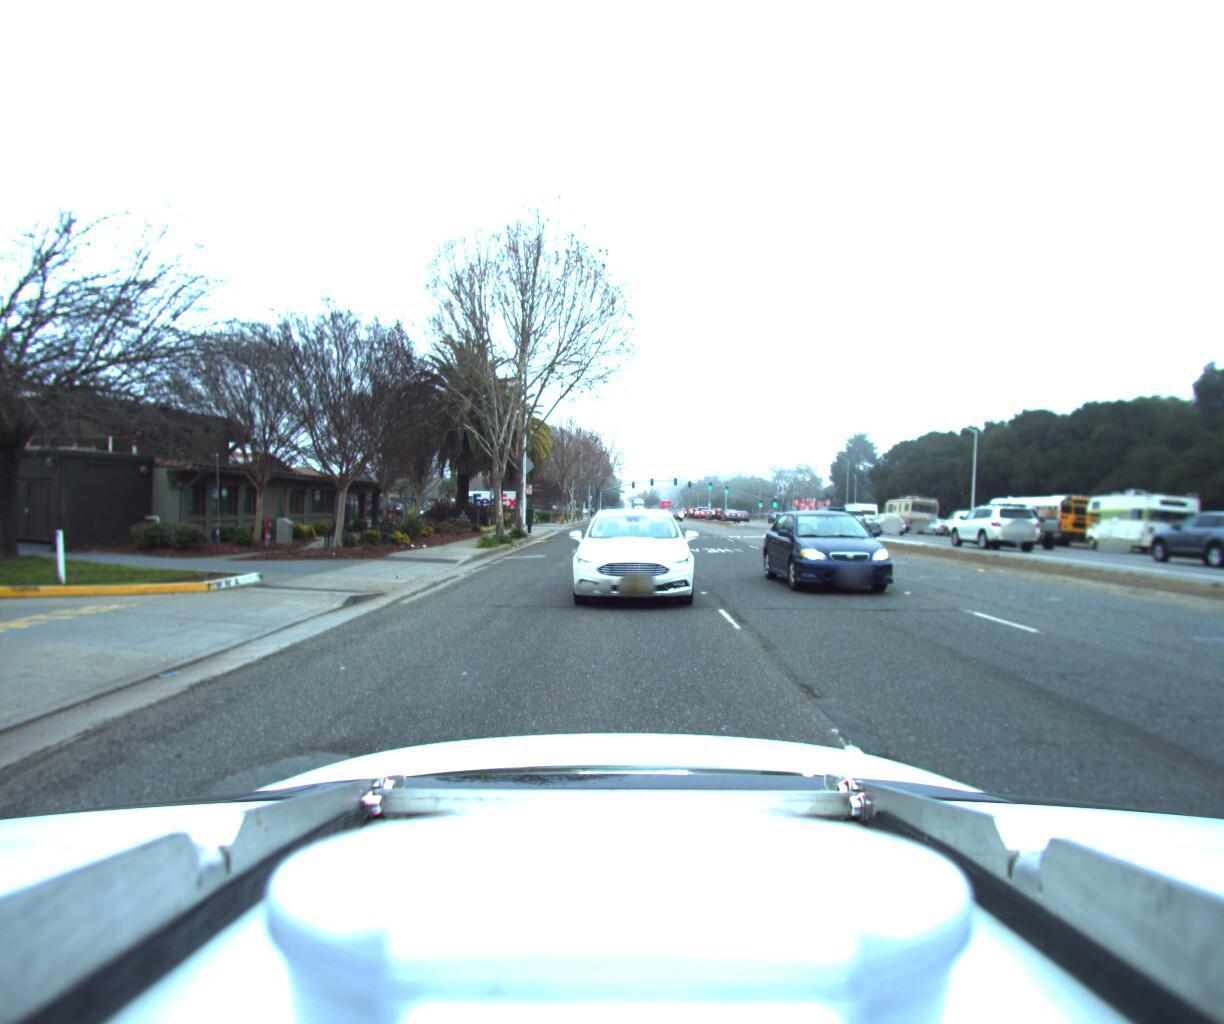bus: (976, 484, 1108, 545)
car: (768, 501, 943, 605), (564, 503, 706, 618), (1137, 504, 1224, 567), (938, 495, 1037, 545), (959, 498, 1060, 543), (1173, 499, 1224, 563), (856, 506, 908, 534), (599, 501, 639, 533), (917, 509, 962, 532), (828, 502, 867, 525)
other_vehicle: (1075, 478, 1208, 557), (877, 486, 943, 530)
truck: (448, 481, 531, 515)
